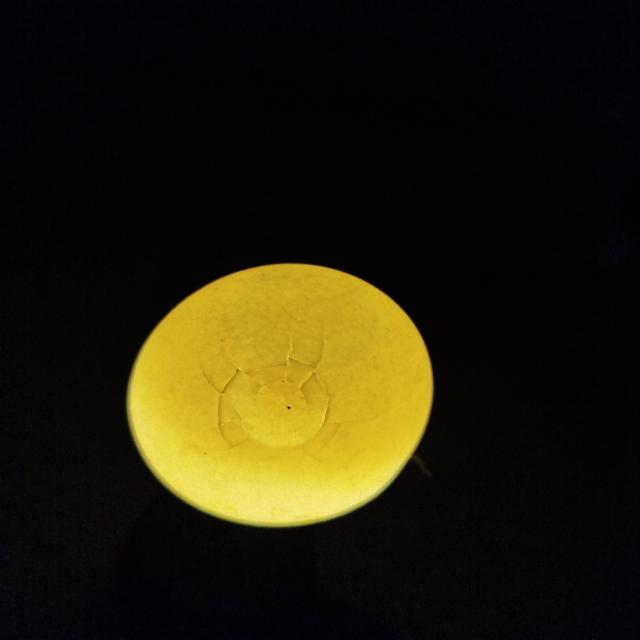Rachadura: (213, 339, 359, 461)
